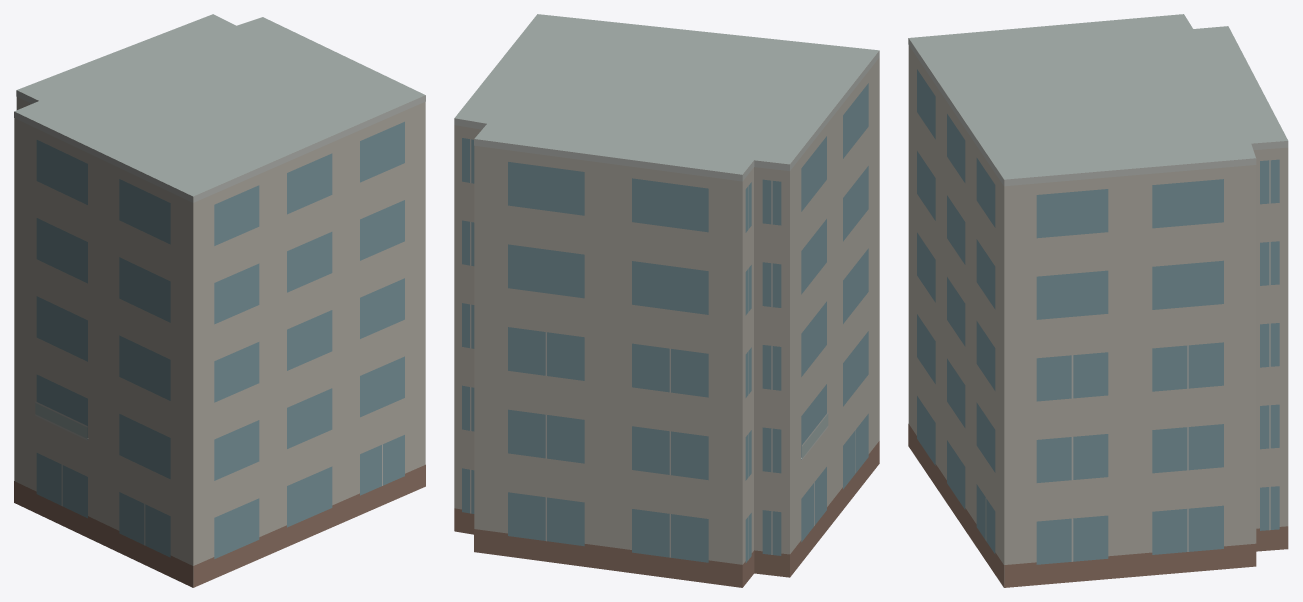
Rendered from survey-upis-32495954.glb.
3 renders of one model, left to right at view 1: azimuth 30°, elevation 25°; view 2: azimuth 150°, elevation 25°; view 3: azimuth 270°, elevation 25°, orthographic. The views are drawn at different scales.
Visible parts, largest first — view 1: survey-upis-32495954.tmp; view 2: survey-upis-32495954.tmp; view 3: survey-upis-32495954.tmp.
Boxes of the visible parts, x1=… form: survey-upis-32495954.tmp: x1=14, y1=14, x2=425, y2=587; survey-upis-32495954.tmp: x1=454, y1=14, x2=879, y2=587; survey-upis-32495954.tmp: x1=908, y1=14, x2=1288, y2=587.
Bounding box in the file's own units: 12.98 × 14.9 × 12.58.
